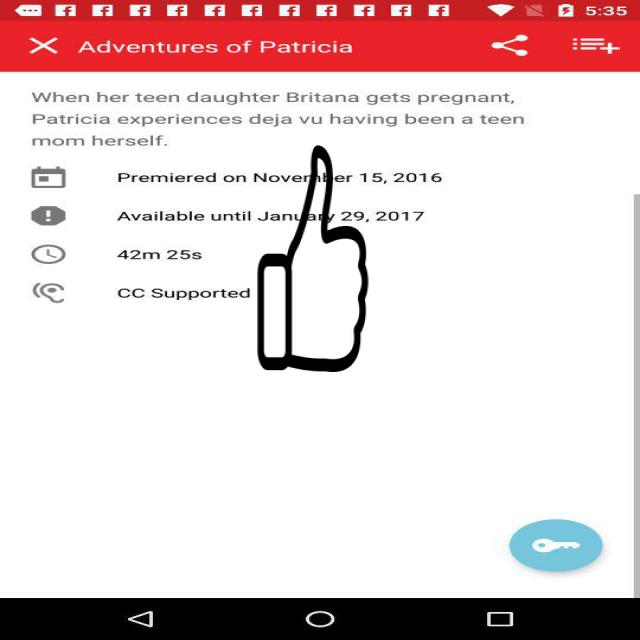privacy zuckering: (256, 145, 370, 372)
